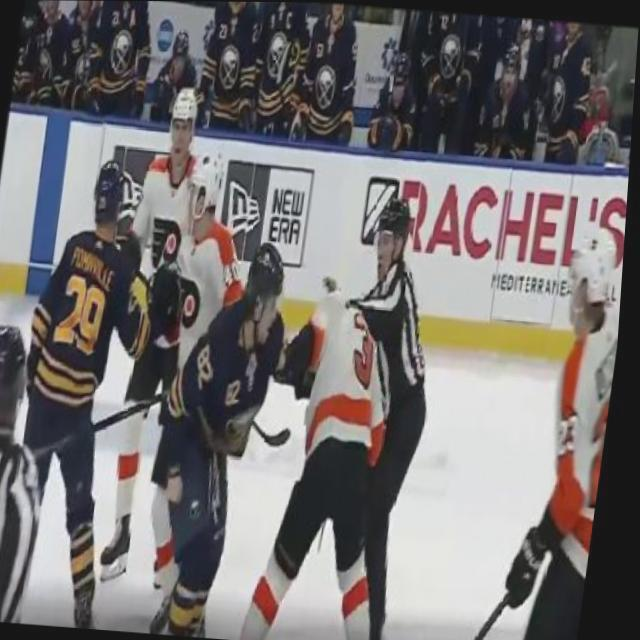fight: (154, 236, 420, 640)
